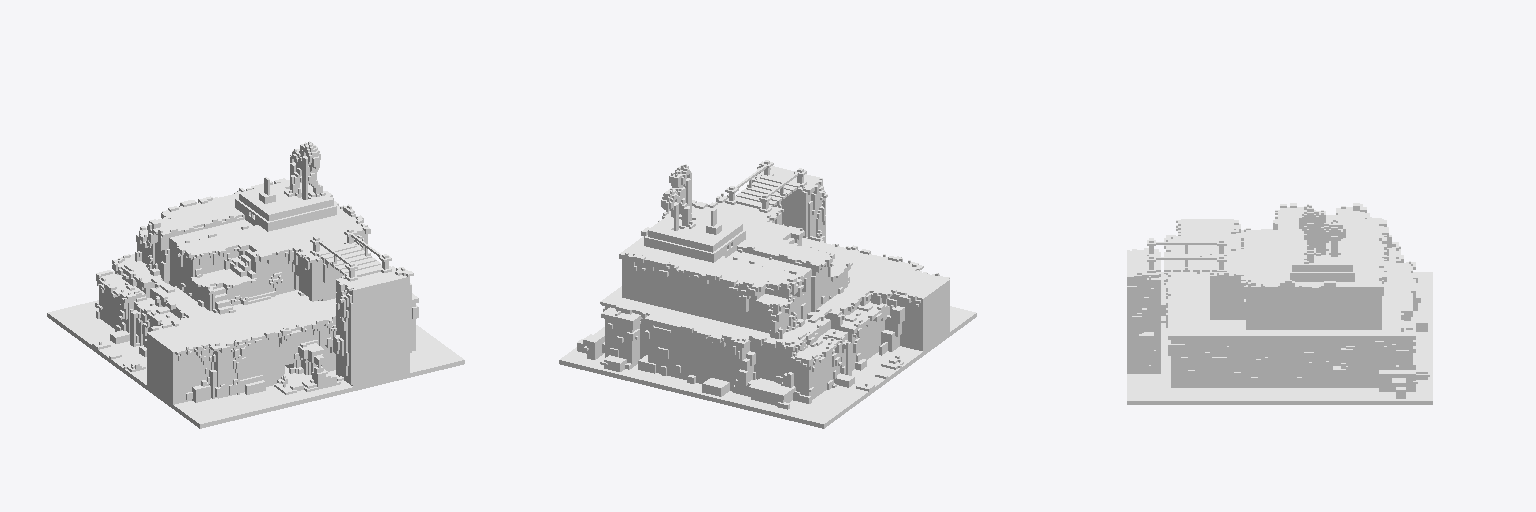
File: projet1.obj
The picture shows the model from 3 angles: view 1: azimuth 30°, elevation 25°; view 2: azimuth 150°, elevation 25°; view 3: azimuth 270°, elevation 25°; orthographic projection.
Visible parts, largest first — view 1: object 1; view 2: object 1; view 3: object 1.
Part boxes in pixels (x1,y1,x2,y2): object 1: (47,141,464,428); object 1: (559,160,976,428); object 1: (1127,203,1432,404).
Size of the model in its own units: 12.6 by 7.7 by 12.6.